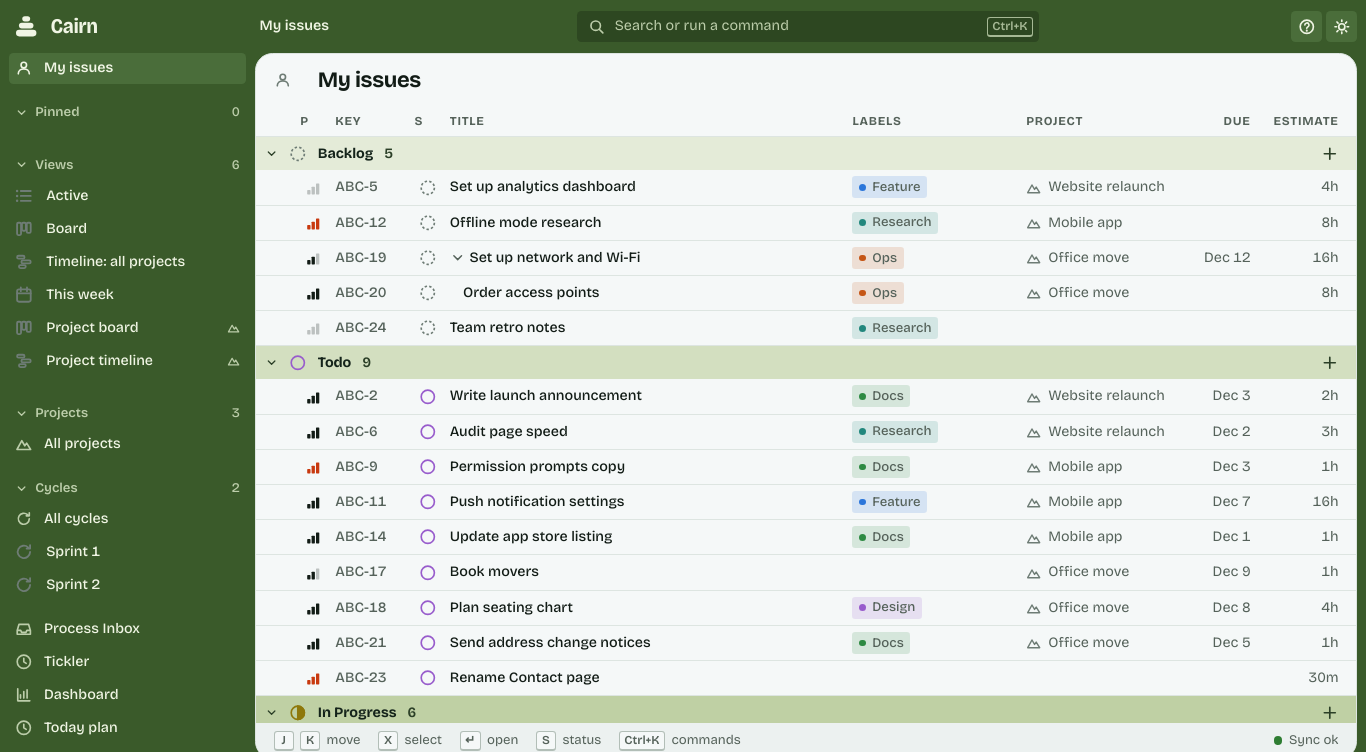
Test case: sidebar and frame › search_field_and_help_button_open_palette_and_cheat_sheet
This screenshot has width=1366, height=752.
Click the button with aria-label "Search or run a command".
click(702, 26)  # box [577, 11, 1039, 42]
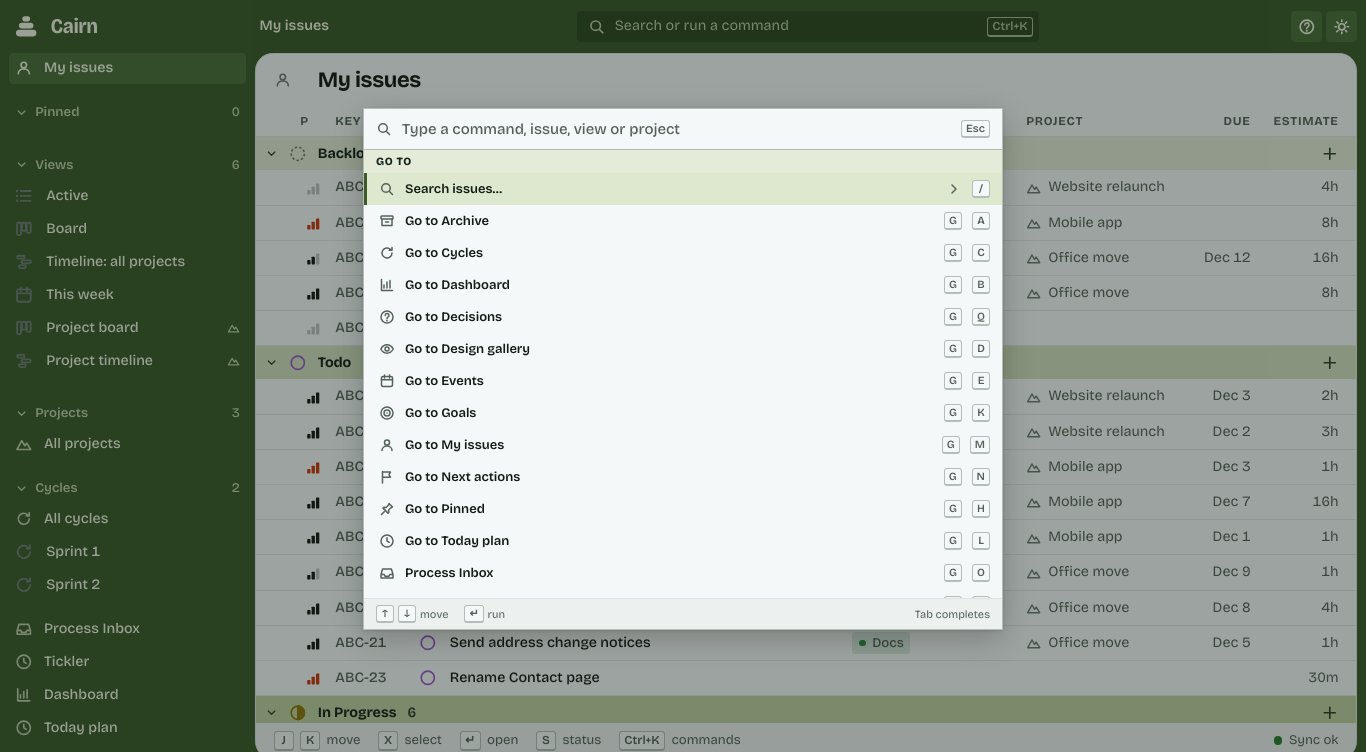
Now the dialog named "Command palette" is shown, box [363, 108, 1003, 630]
